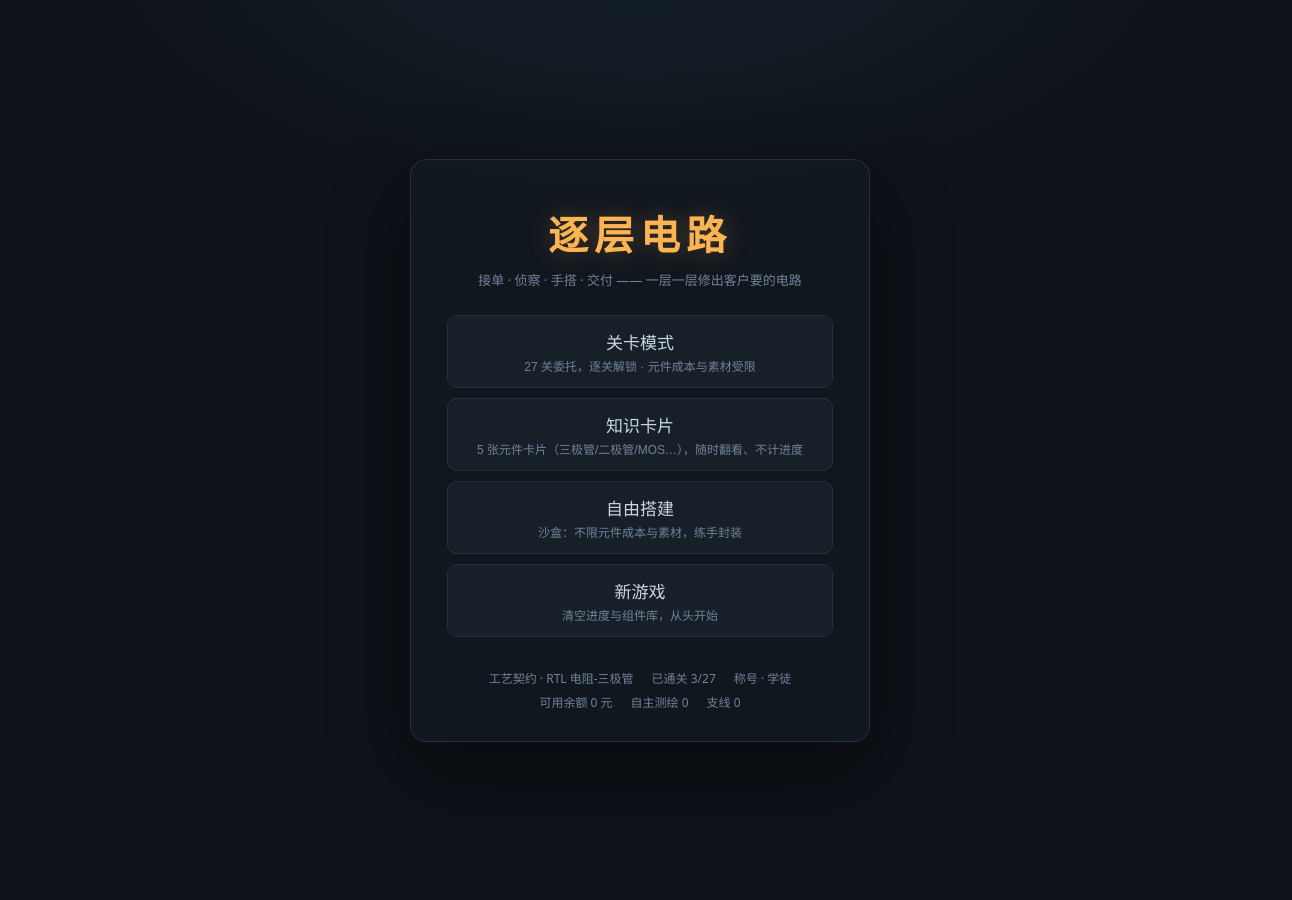
Test: 关卡模式只列有 levelId 的模块（自由模式搭的在关卡里全面不可见） › ② 关卡产出的（有 levelId）与老存档 stage>=2 的照旧列 —— 时序关一关一关看
Click the button "关卡模式 27 关委托，逐关解锁 · 元件成本与素材受限". click: (640, 351)
box: [447,314,833,388]
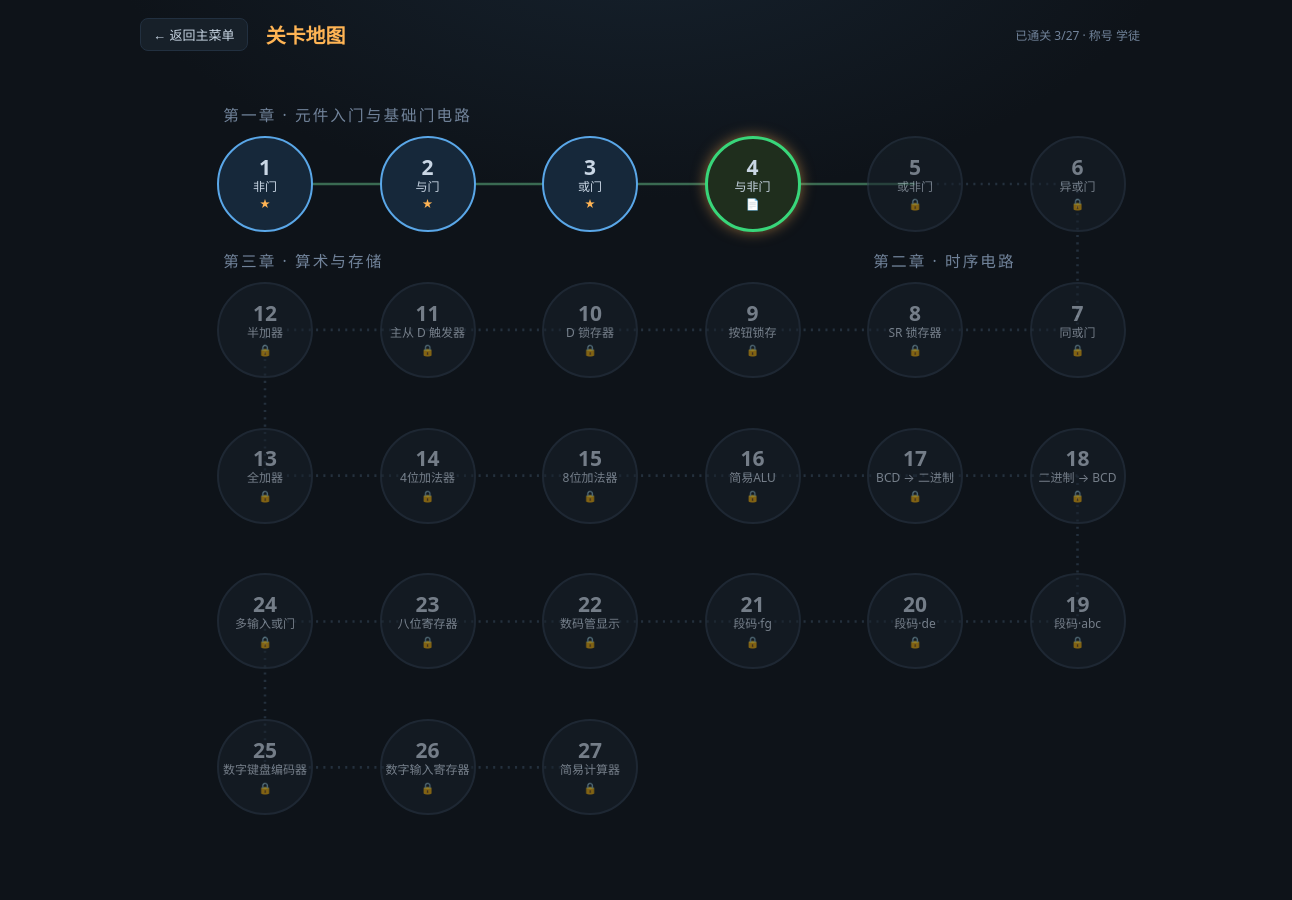
Click the text "与非门". click: (752, 187)
box: [734,180,770,194]
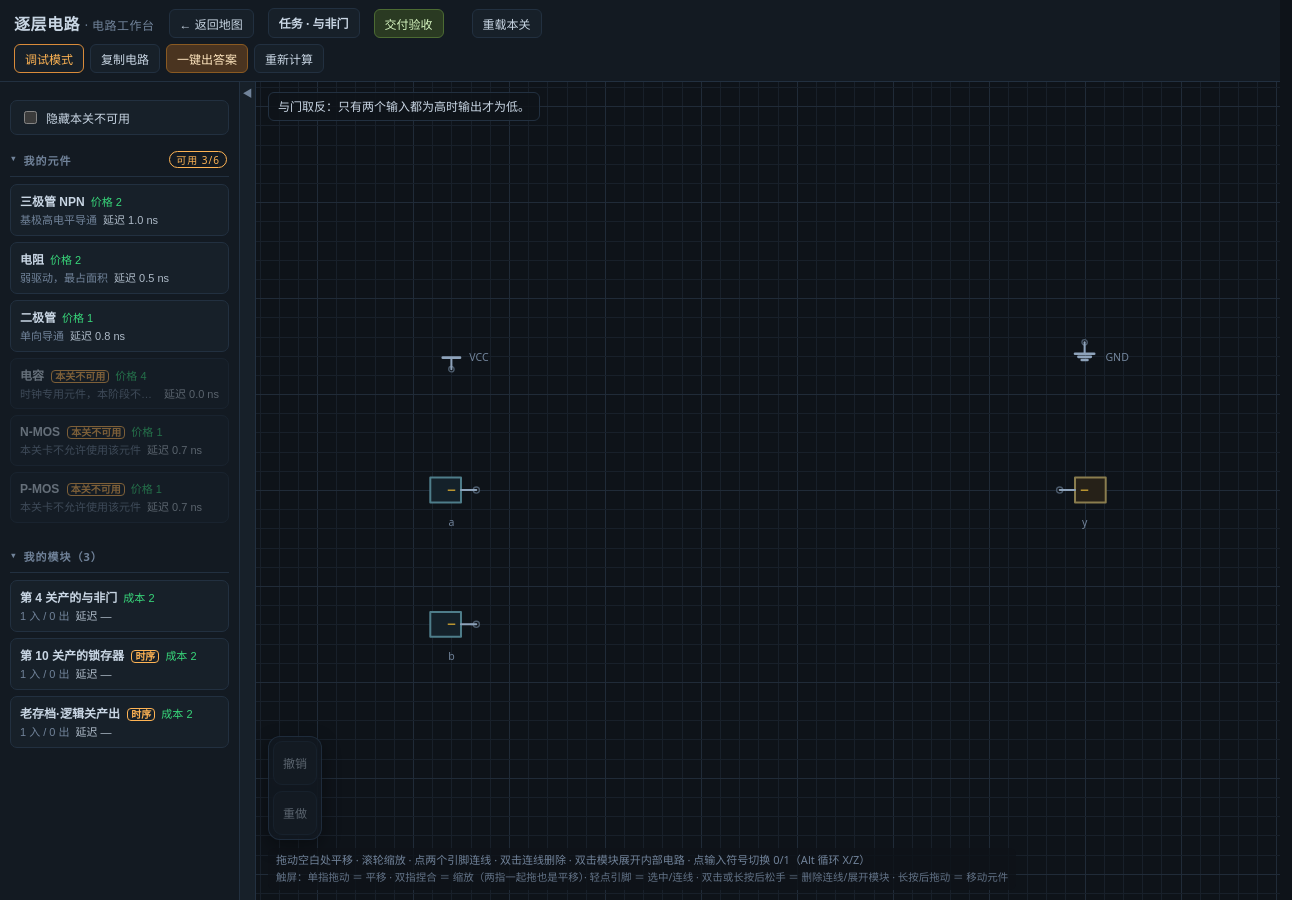
Expected: the element that starts with "隐藏本关不可用" is shown, [0,82,240,899]
Expected: the element that starts with "我的元件" is shown, [10,143,229,532]
